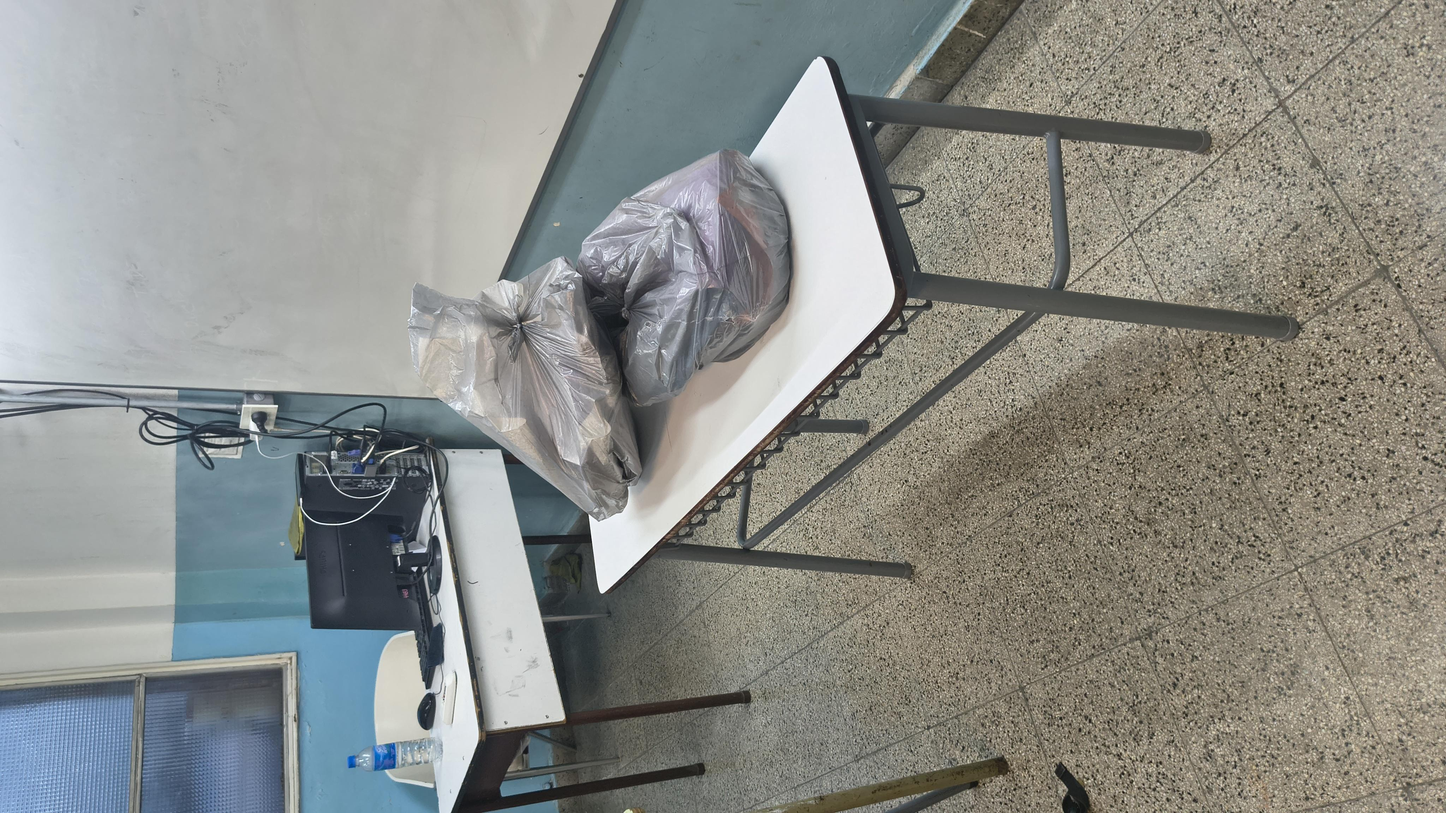Garbage: (496, 222, 1042, 379), (728, 308, 1218, 466)
